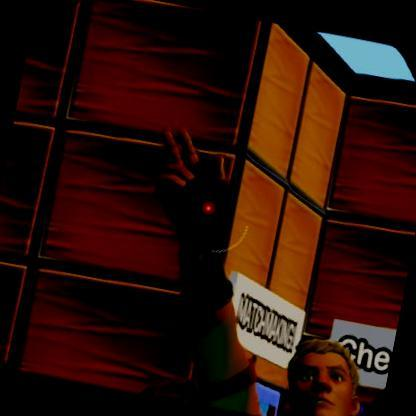person: (276, 332, 366, 416)
